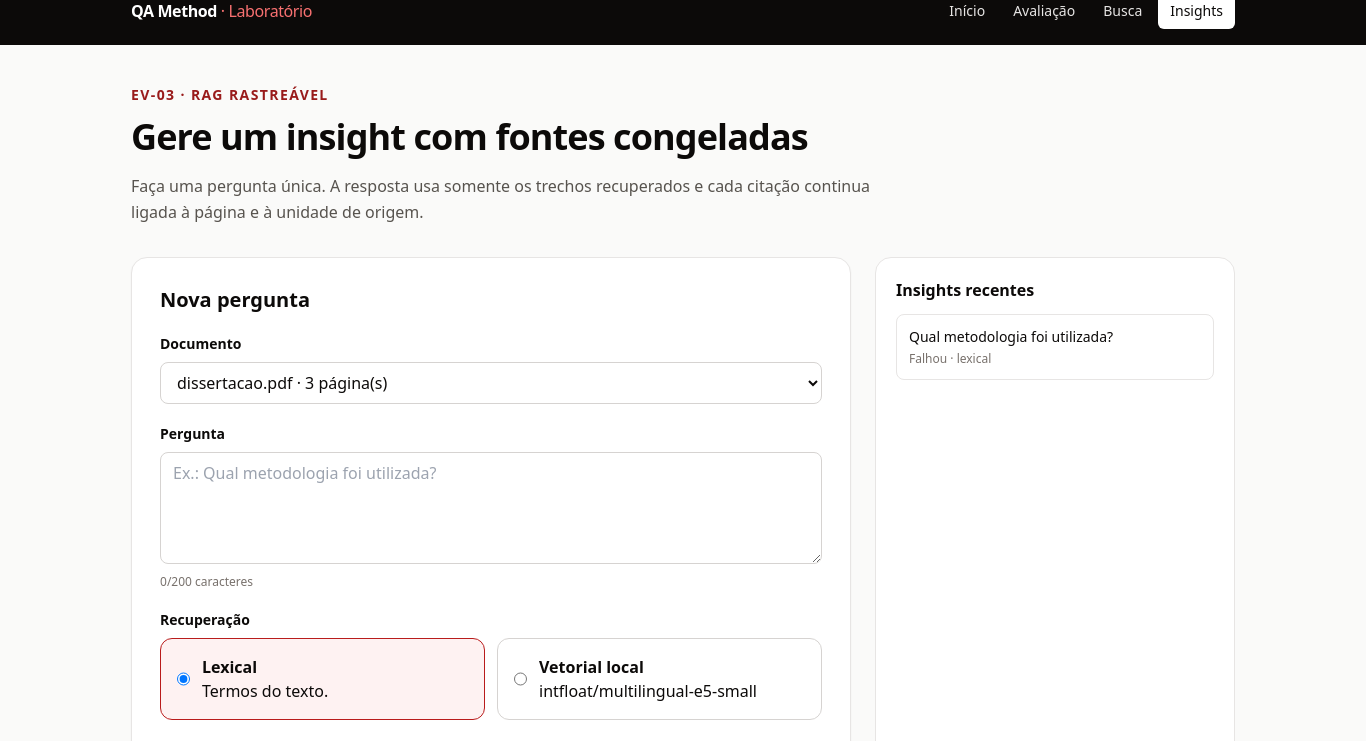
Test: Insights › reabre um insight falho sem publicar resposta parcial
Step 1. Click the button "Qual metodologia foi utilizada? Falhou · lexical" → (1055, 347), box [896,314,1214,380]
(page scrolled)
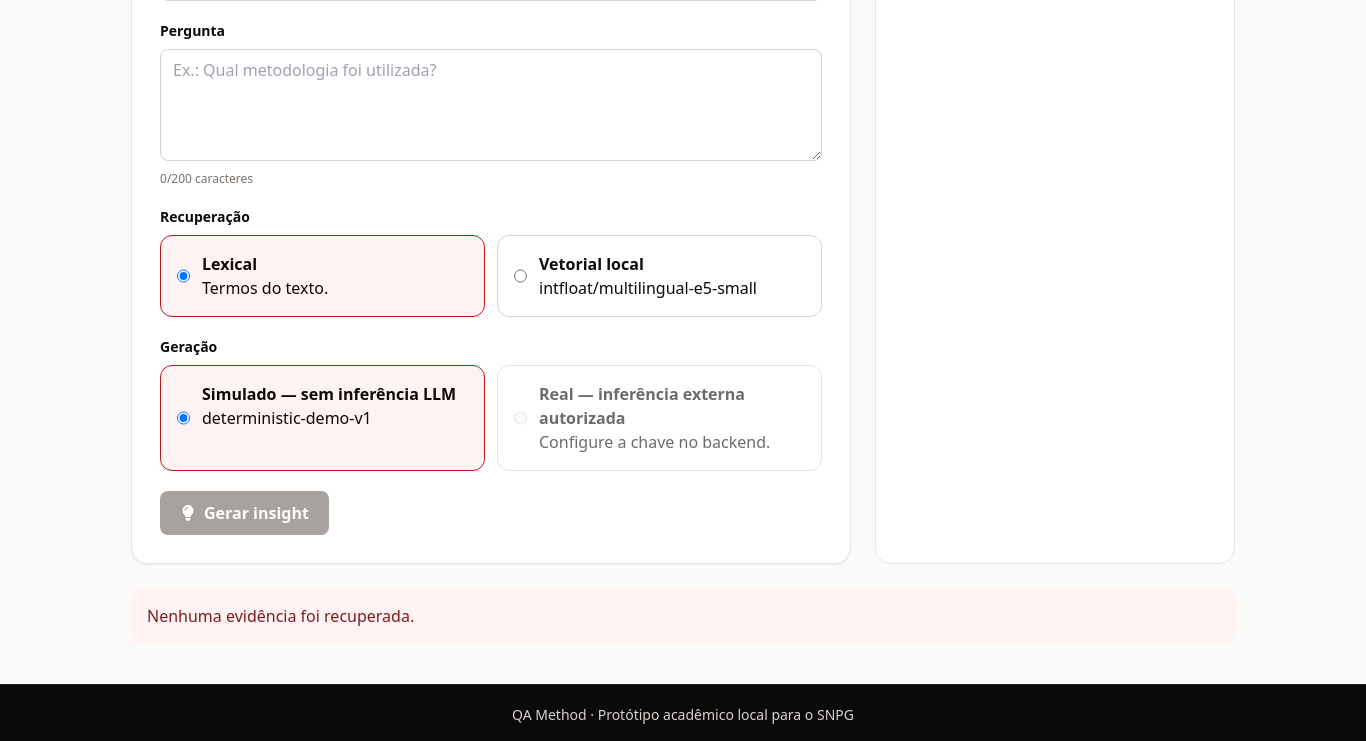
expect the message reads "Nenhuma evidência foi recuperada.": met, box [147,605,414,627]
